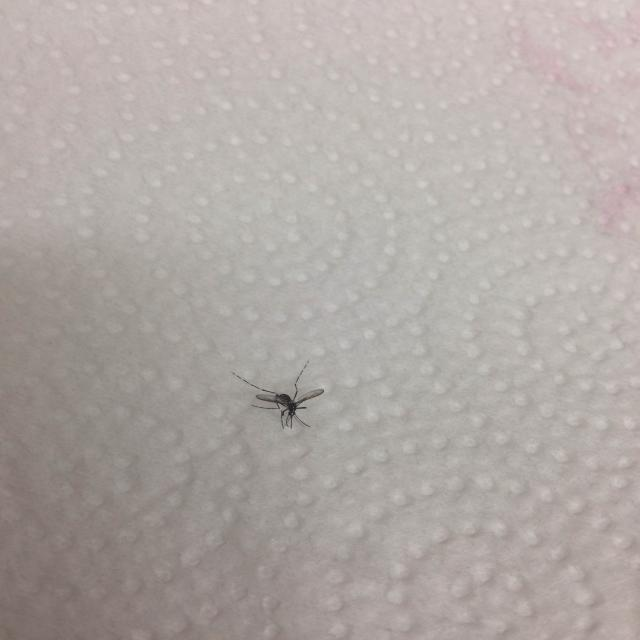albopictus: (228, 355, 332, 435)
